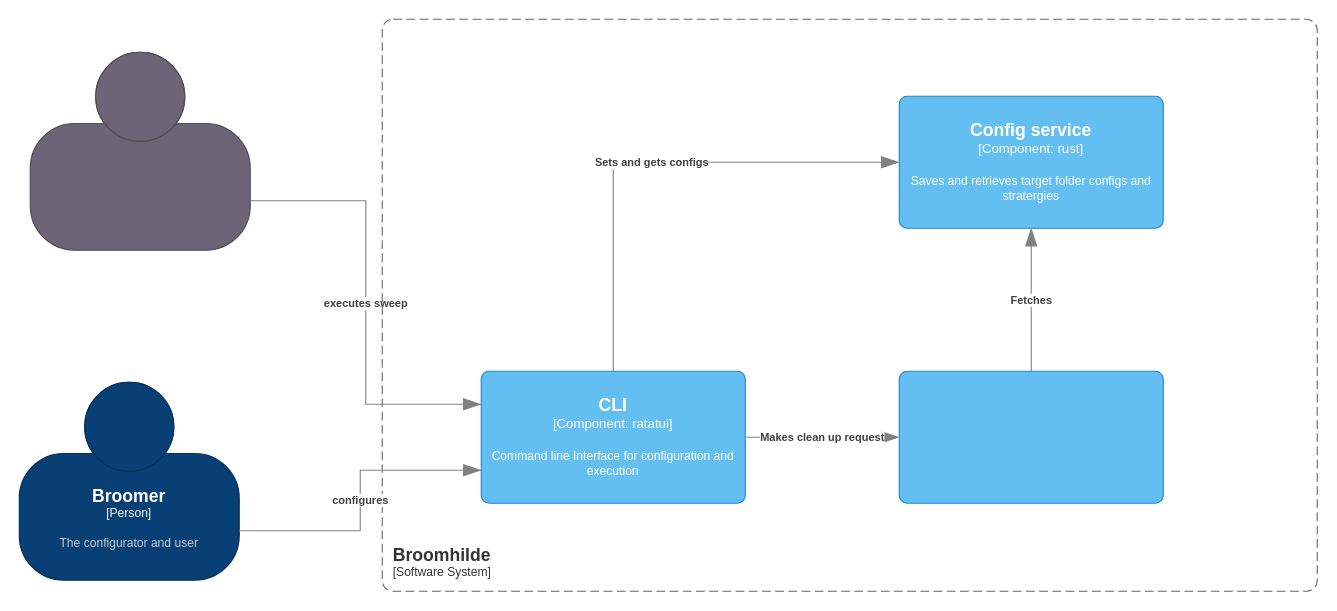
Image size: 1337x611. Some labels were removed from this diagram. The centre of each missing label's shape, as x and y in pixels:
Daemon/ Actor [Operating system] External executer: (139,150)
Folder organizer [Component: rust] Sort and cleans up folders: (1030,436)
